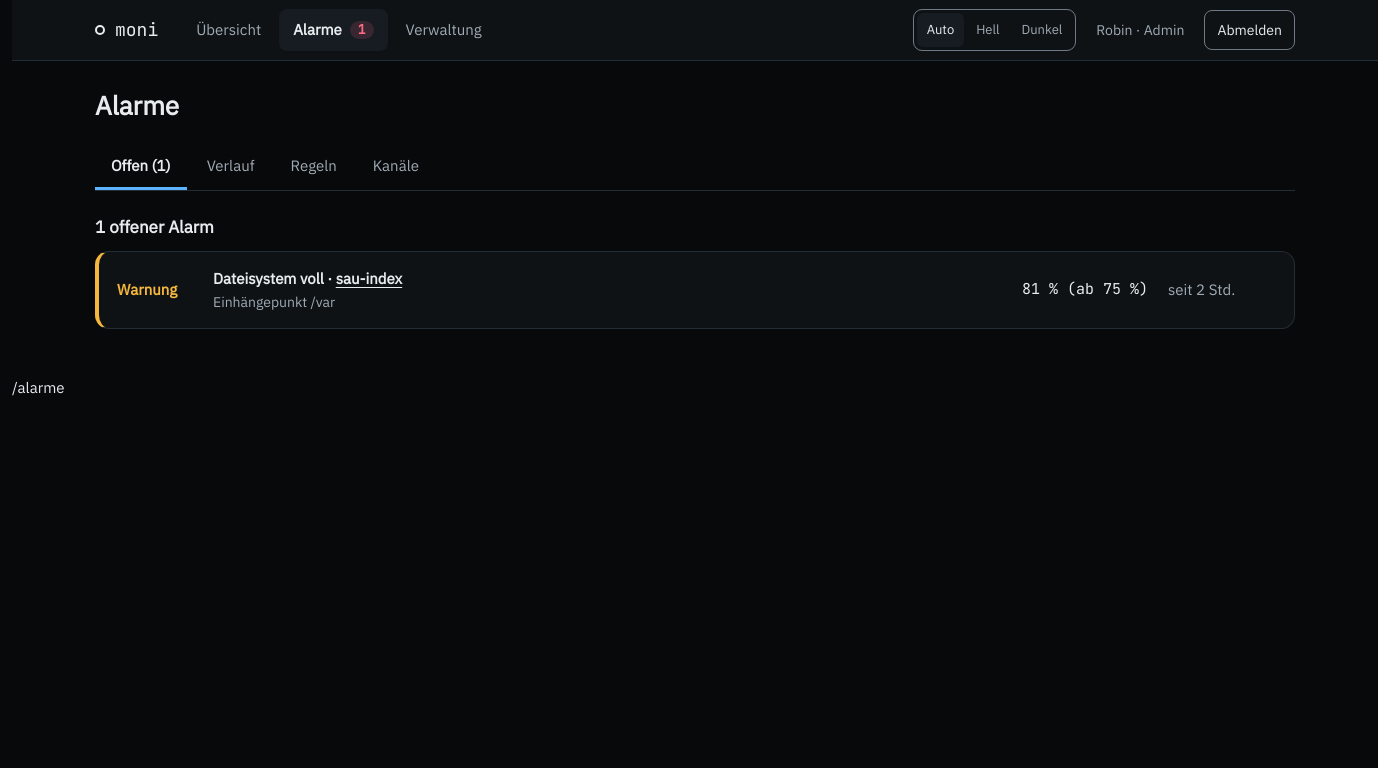
Bereichsnavigation › Bereichsnavigation sind Links mit aria-current
Expected: the heading "Alarme" is shown, [95,88,179,122]
Click the link "Regeln". click: coordinates (314, 166)
box: [290,156,337,175]
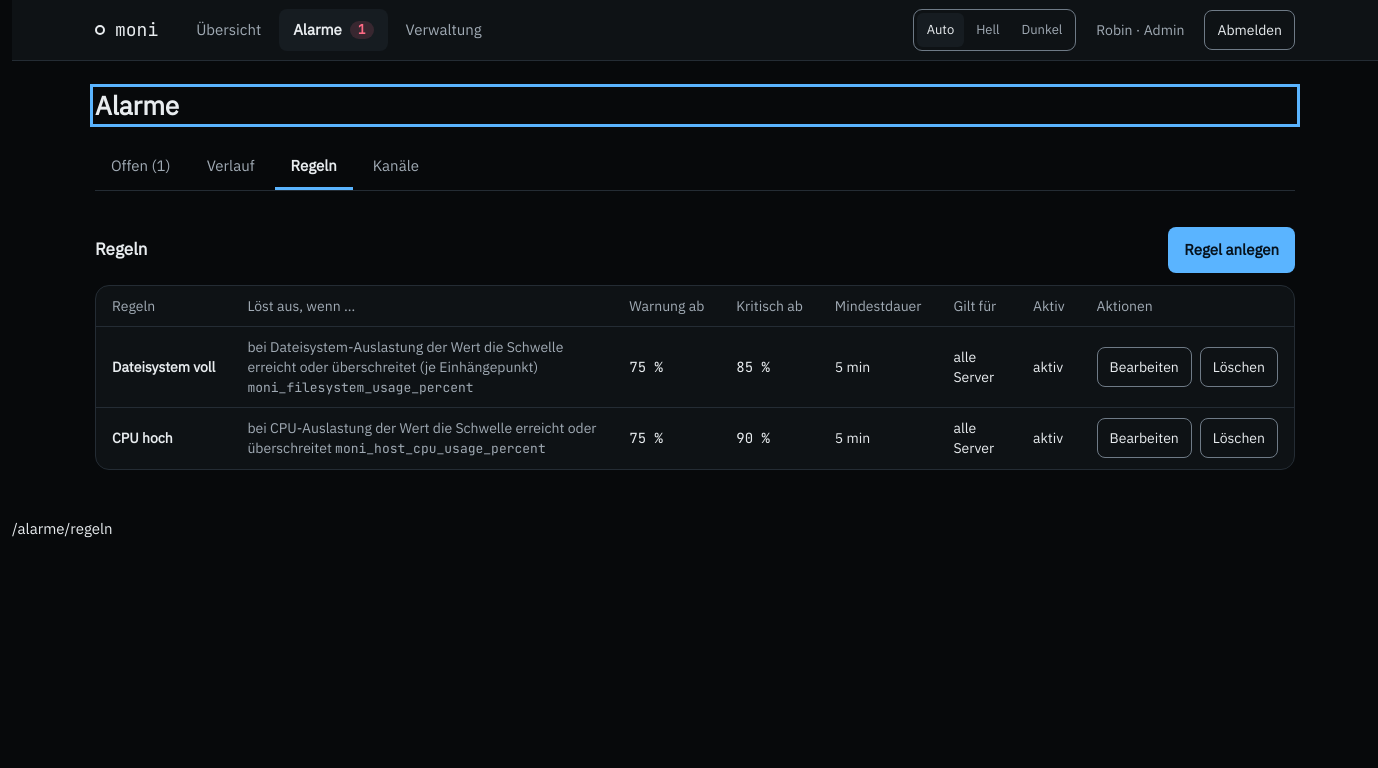
Expected: the heading "Regeln" is shown, [95,237,148,262]
